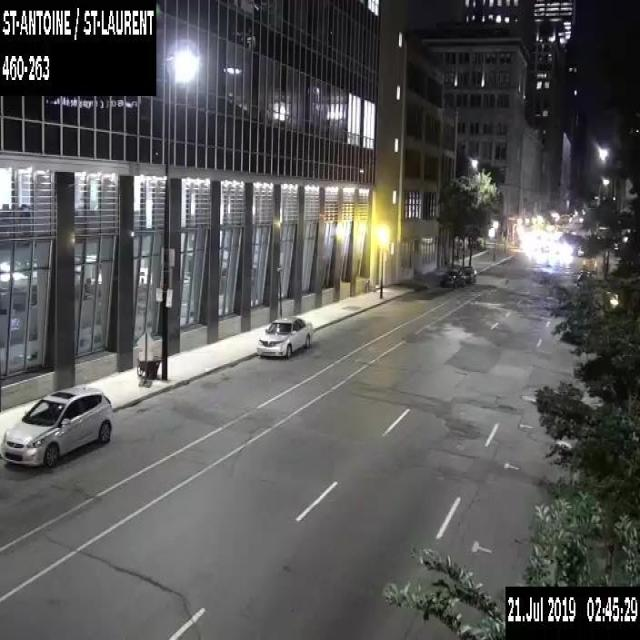construction: (134, 329, 156, 386), (581, 258, 597, 274)
vehicle: (0, 384, 112, 469), (255, 313, 312, 359), (441, 268, 465, 286), (457, 264, 476, 282)
